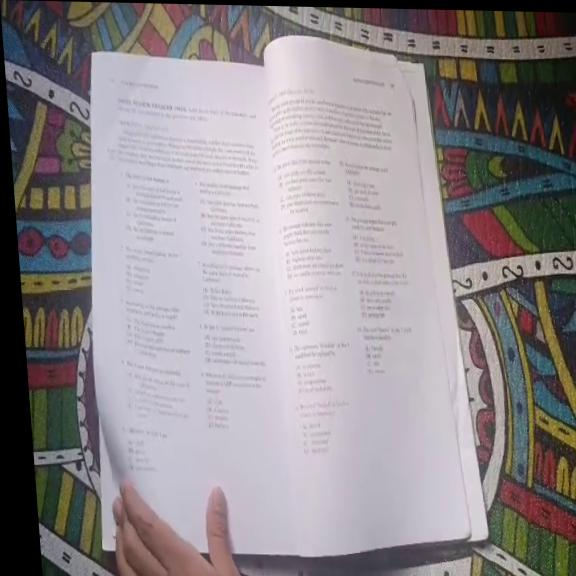Kertas: (94, 56, 313, 478), (264, 63, 460, 531)
